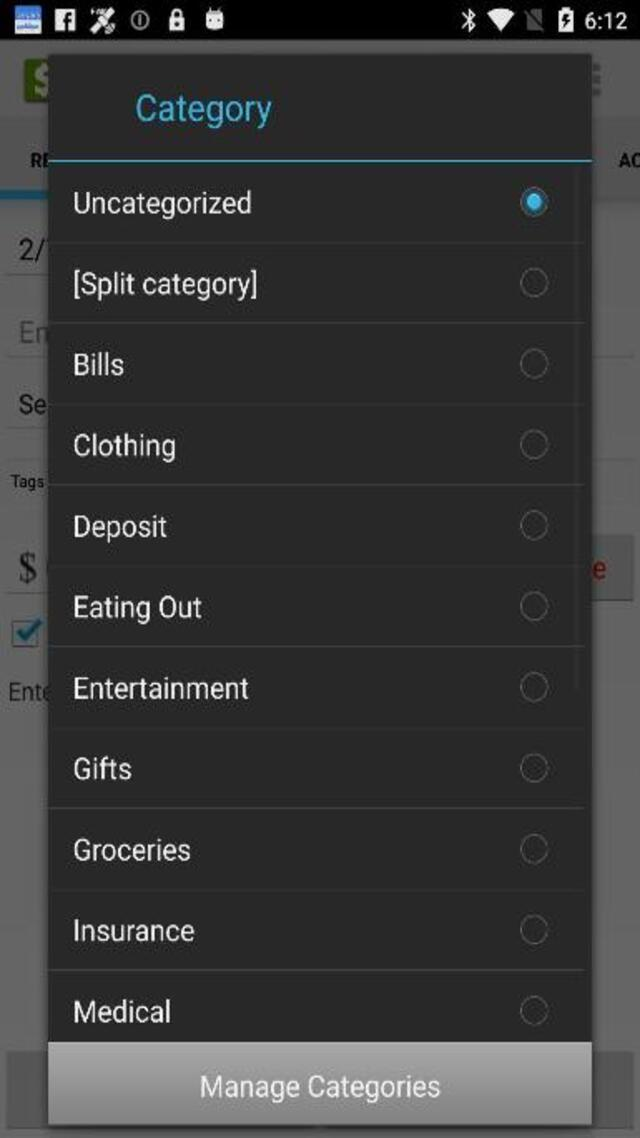CheckedTextView: (74, 186, 548, 220), (74, 268, 548, 302), (74, 430, 548, 464), (74, 510, 548, 544), (74, 591, 548, 625), (74, 348, 548, 378), (74, 672, 548, 702), (74, 753, 548, 783), (74, 833, 548, 863), (74, 915, 548, 945), (74, 995, 548, 1025)
Text: (194, 1075, 447, 1104), (73, 268, 256, 300), (75, 190, 251, 220), (136, 94, 272, 130), (74, 676, 248, 700), (74, 595, 202, 625), (74, 433, 175, 463), (74, 918, 194, 942), (74, 838, 190, 862), (75, 514, 168, 542), (74, 998, 169, 1022), (74, 754, 132, 779), (75, 350, 124, 375)
TextButton: (47, 1042, 591, 1124)
